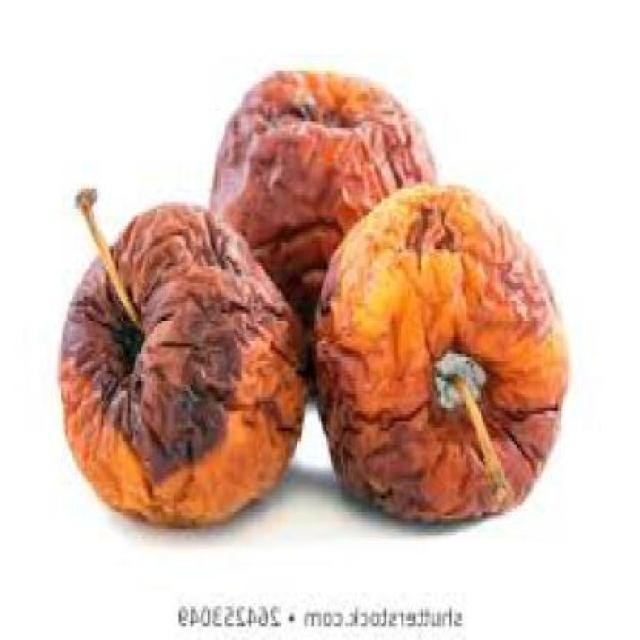BIODEGRADABLE: (312, 178, 573, 518), (58, 182, 312, 526), (210, 68, 439, 397)
